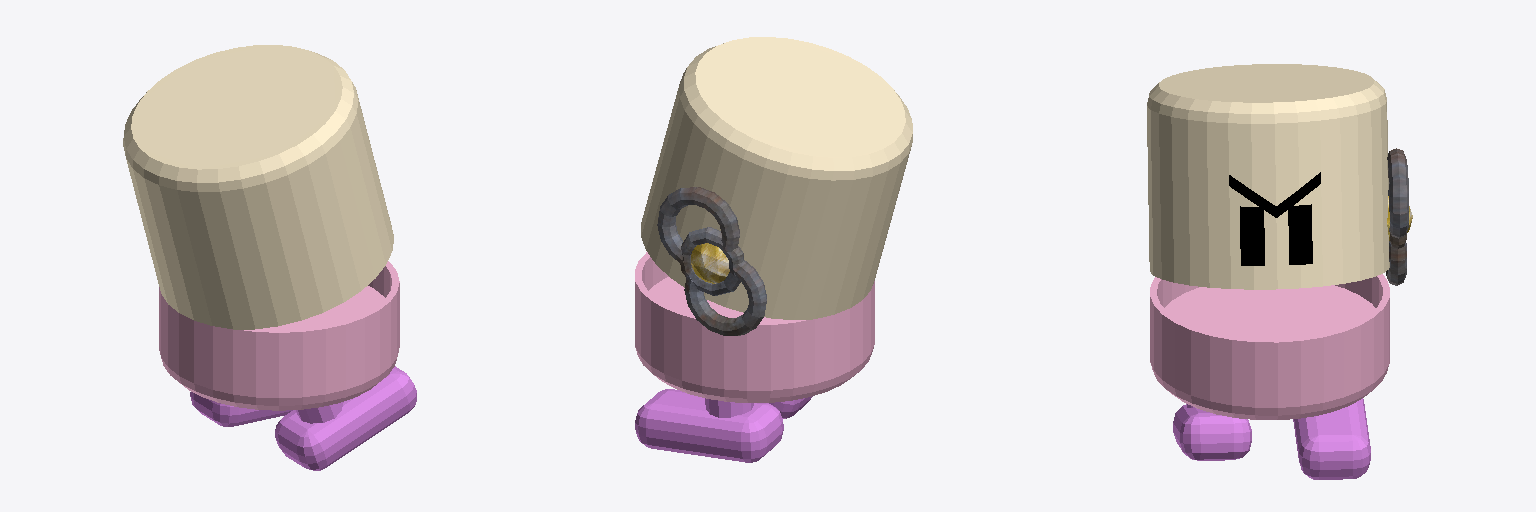
3 renders of one model, left to right at view 1: azimuth 30°, elevation 25°; view 2: azimuth 150°, elevation 25°; view 3: azimuth 270°, elevation 25°, orthographic.
Parts seen in each view (by area): view 1: Head, Jaw, RightLeg, LeftLeg; view 2: Head, Jaw, WindupKey, LeftLeg; view 3: Head, Jaw, LeftLeg, RightLeg, WindupKey.
Part boxes in pixels (left/top/right/bottom): Head: left=123, top=45, right=393, bottom=329; Jaw: left=159, top=261, right=399, bottom=410; RightLeg: left=275, top=366, right=416, bottom=470; LeftLeg: left=190, top=392, right=292, bottom=426; Head: left=641, top=37, right=912, bottom=319; Jaw: left=635, top=252, right=874, bottom=402; WindupKey: left=657, top=187, right=766, bottom=335; LeftLeg: left=635, top=389, right=783, bottom=462; Head: left=1147, top=64, right=1389, bottom=289; Jaw: left=1150, top=274, right=1389, bottom=419; LeftLeg: left=1293, top=398, right=1370, bottom=479; RightLeg: left=1173, top=404, right=1251, bottom=460; WindupKey: left=1386, top=148, right=1412, bottom=285.
Bounding box in the file's own units: 117 × 170 × 111.
6 materials, 2 textured.